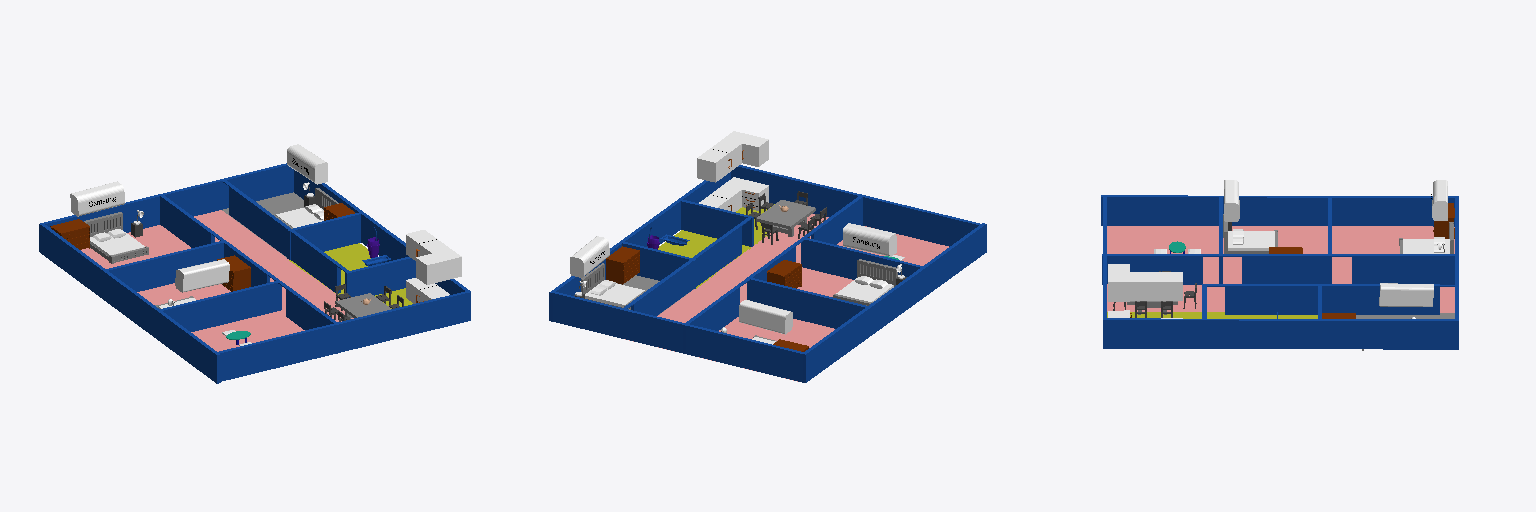
The model's file is tipec12.obj.
3 views of the same model, side by side, from view 1: azimuth 30°, elevation 25°; view 2: azimuth 150°, elevation 25°; view 3: azimuth 270°, elevation 25° (orthographic).
Visible parts, largest first — view 1: Plane001, Box298, Box299, Box295, Box296, Box303, Box300, Box380, Box382, Box374, Box381, Box305 (+10 smaller); view 2: Box295, Plane001, Box299, Box298, Box303, Box300, Box296, Box380, Box382, Box381, Box305, Box374 (+11 smaller); view 3: Box300, Plane001, Box299, Box305, Box381, Box304, Box382, Box297, Rectangle003, Plane006, Box160, Box158 (+6 smaller).
Boxes of the visible parts, x1,y1,x2,y2 form: Plane001: [81, 210, 353, 351]; Box298: [215, 291, 470, 381]; Box299: [39, 223, 220, 383]; Box295: [42, 163, 293, 232]; Box296: [159, 280, 281, 331]; Box303: [105, 240, 225, 291]; Box300: [294, 170, 469, 294]; Box380: [345, 257, 415, 298]; Box382: [229, 186, 291, 256]; Box374: [287, 212, 360, 259]; Box381: [291, 230, 340, 293]; Box305: [158, 194, 214, 247]; Box295: [550, 291, 805, 382]; Plane001: [625, 214, 948, 381]; Box299: [802, 223, 986, 382]; Box298: [731, 165, 980, 246]; Box303: [747, 277, 868, 328]; Box300: [549, 172, 730, 321]; Box296: [801, 237, 922, 279]; Box380: [681, 200, 753, 246]; Box382: [631, 260, 693, 315]; Box381: [693, 224, 741, 286]; Box305: [683, 286, 739, 353]; Box374: [622, 242, 695, 288]; Box300: [1105, 318, 1458, 349]; Plane001: [1107, 226, 1454, 312]; Box299: [1101, 195, 1458, 226]; Box305: [1352, 254, 1458, 284]; Box381: [1225, 284, 1319, 314]; Box304: [1242, 254, 1331, 283]; Box382: [1320, 284, 1439, 314]; Box297: [1102, 254, 1202, 284]; Rectangle003: [1379, 283, 1433, 306]; Plane006: [1107, 312, 1317, 318]; Box160: [1108, 264, 1129, 301]; Box158: [1156, 272, 1182, 300].
Size of the model in its own units: 875 by 215 by 1056.